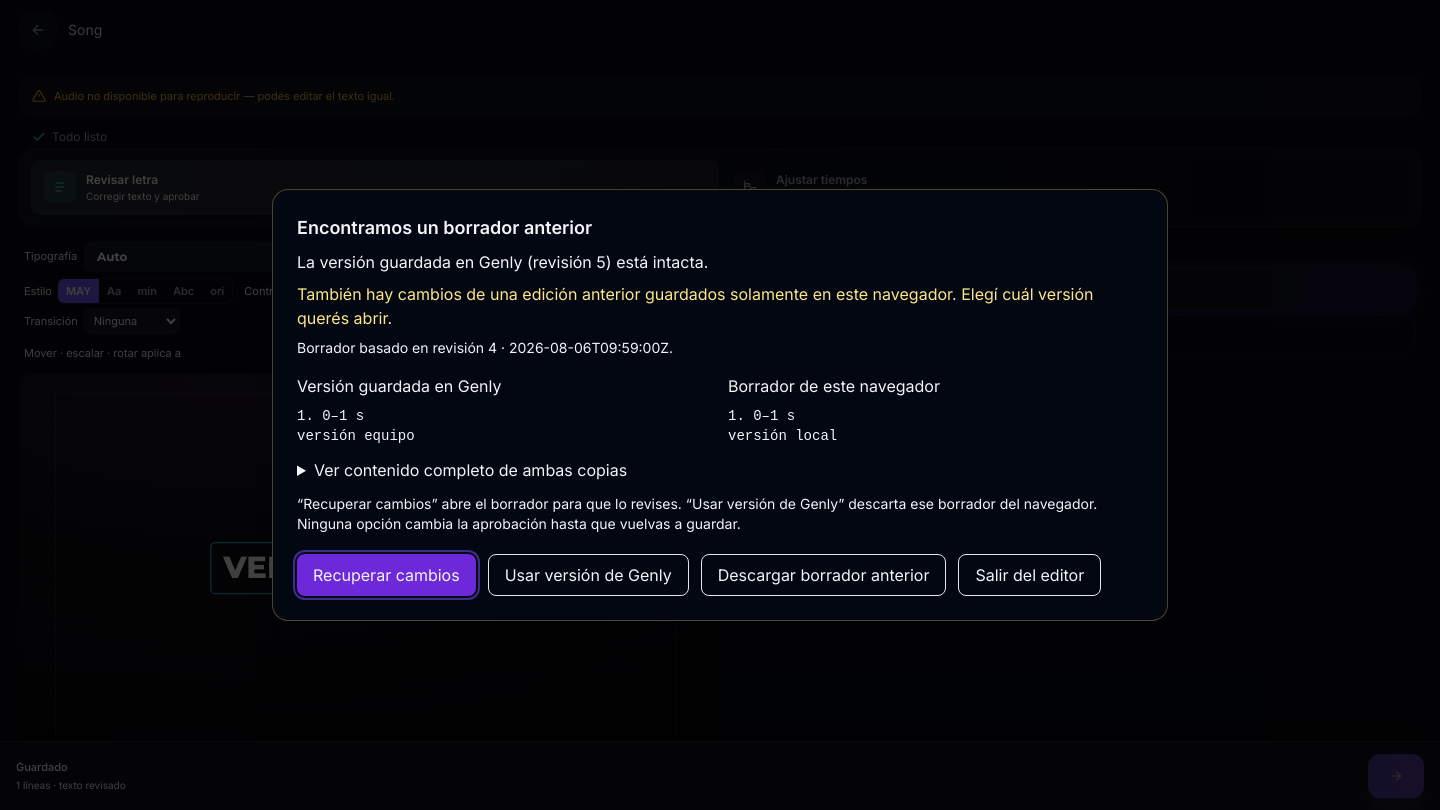
Test case: Editor 2.0 stale draft recovery › requires explicit recovery of a stale draft and keeps the local copy
This screenshot has width=1440, height=810.
Click the button "Recuperar cambios".
click(386, 575)  # box [297,554,476,596]
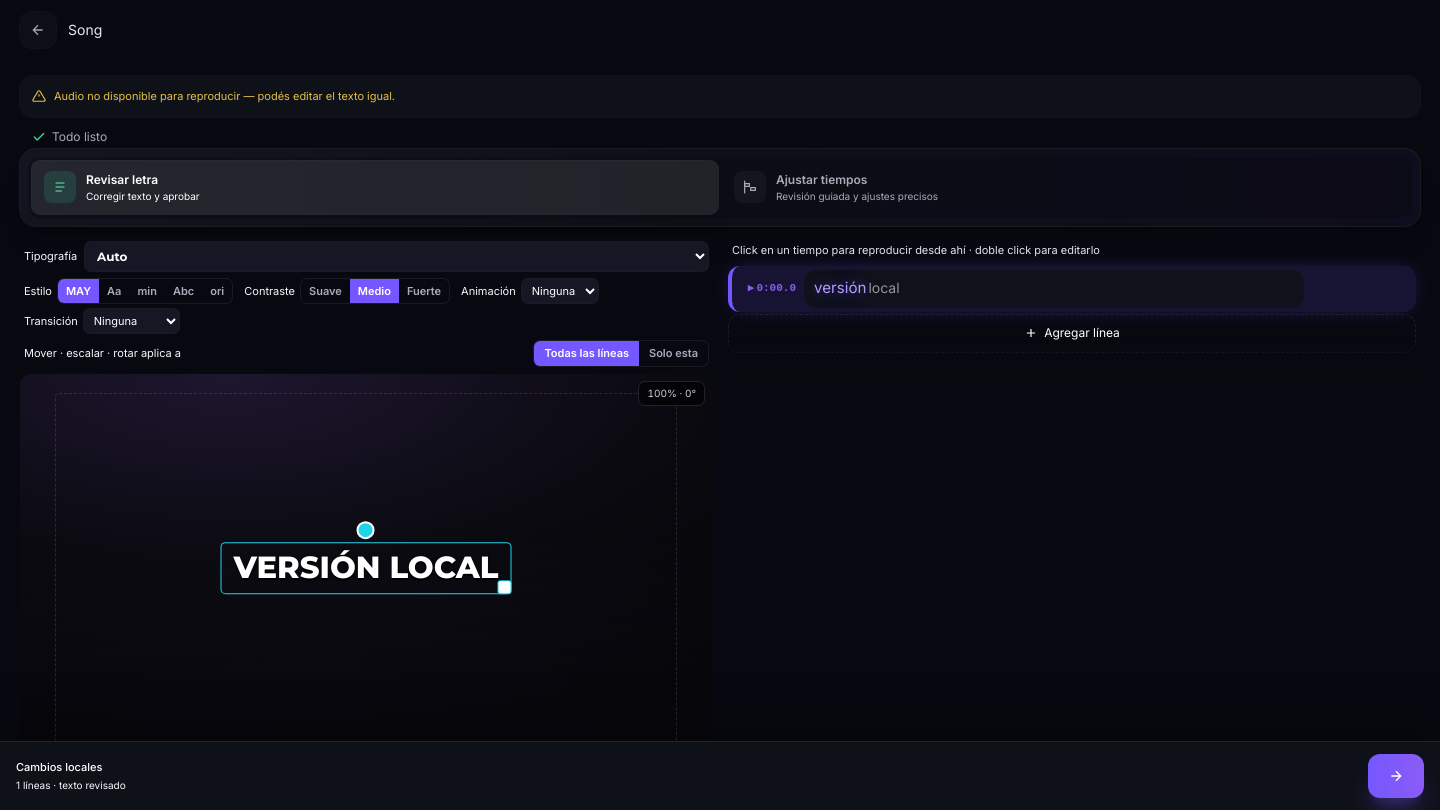
Result: the field showing "versión local" is shown at [804,270,1304,308]
Result: the button named "Aprobar y generar" is enabled at [1368,754,1424,798]
